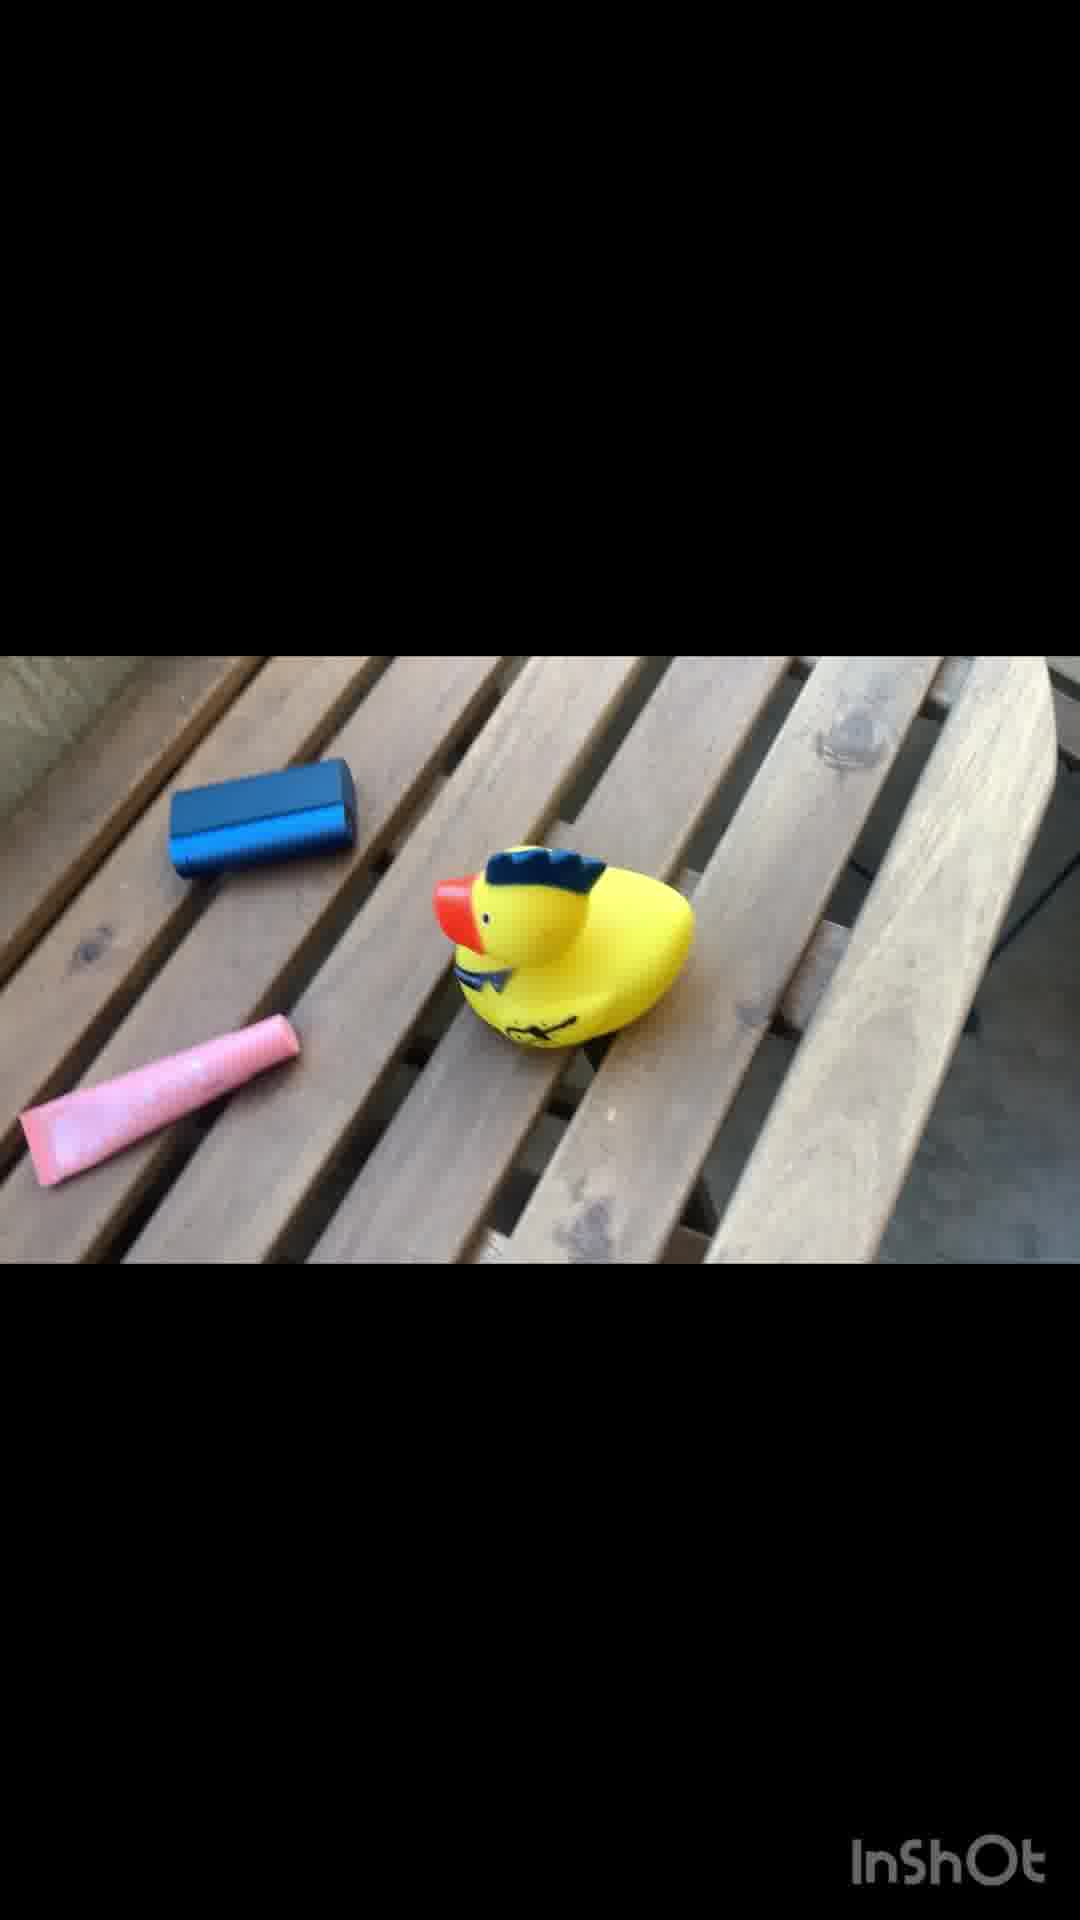duck: (439, 818, 709, 1044)
glo: (164, 760, 363, 880)
lip balm: (33, 1011, 290, 1195)
